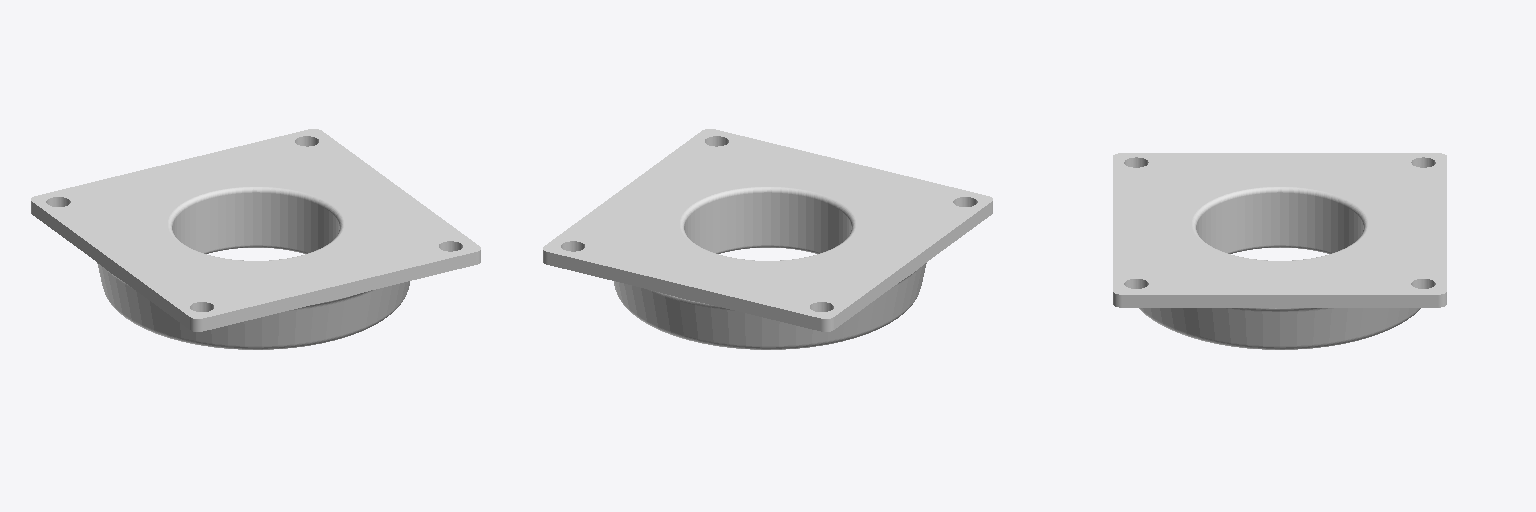
Rendered from RightVerticalRotationSlider_0.obj.
The picture shows the model from 3 angles: view 1: azimuth 30°, elevation 25°; view 2: azimuth 150°, elevation 25°; view 3: azimuth 270°, elevation 25°; orthographic projection.
Bounding box in the file's own units: 0.07 × 0.0148 × 0.07.